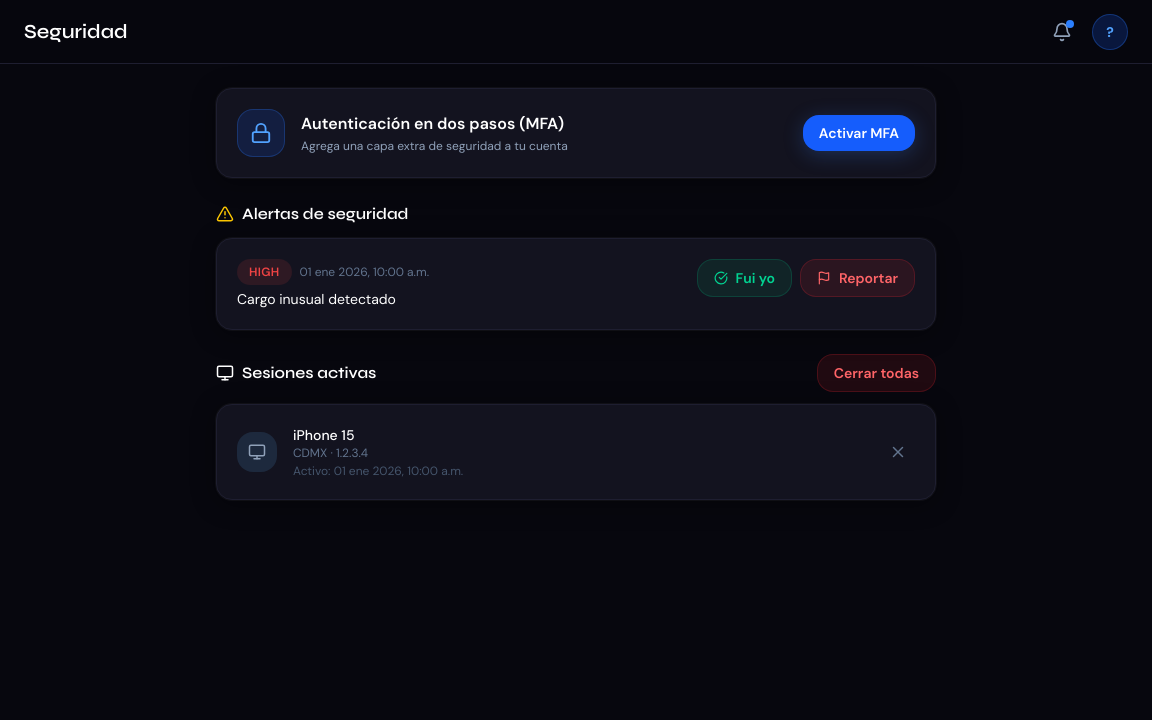
Test: SecurityPage › "Fui yo" confirms the alert and removes it from the list
Expected: the text "Cargo inusual detectado" is shown, [237,290,396,308]
Step 1. Click the button "Fui yo" → x=744, y=278, box [696,259,792,297]
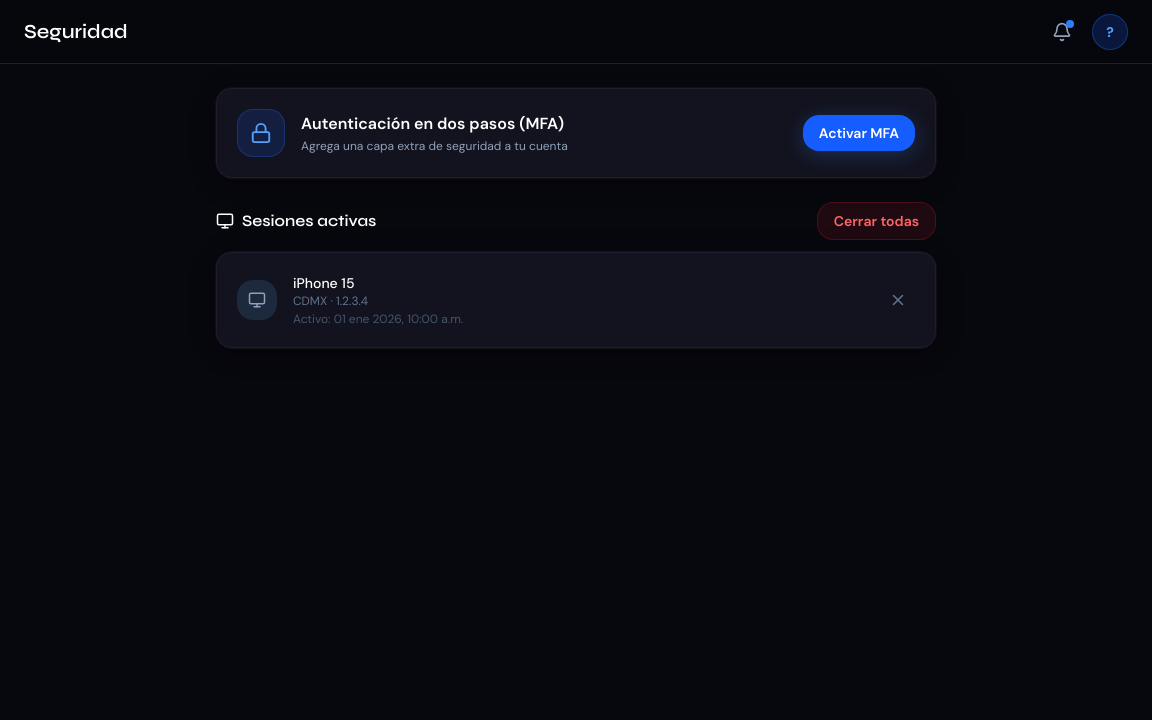
Now the text "Cargo inusual detectado" is gone
